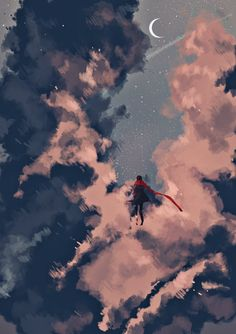human: (114, 164, 174, 242)
moon: (139, 8, 174, 60)
